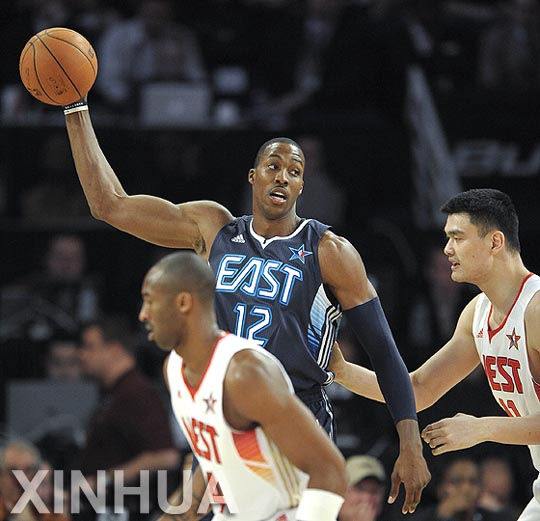basketball: (19, 26, 98, 106)
